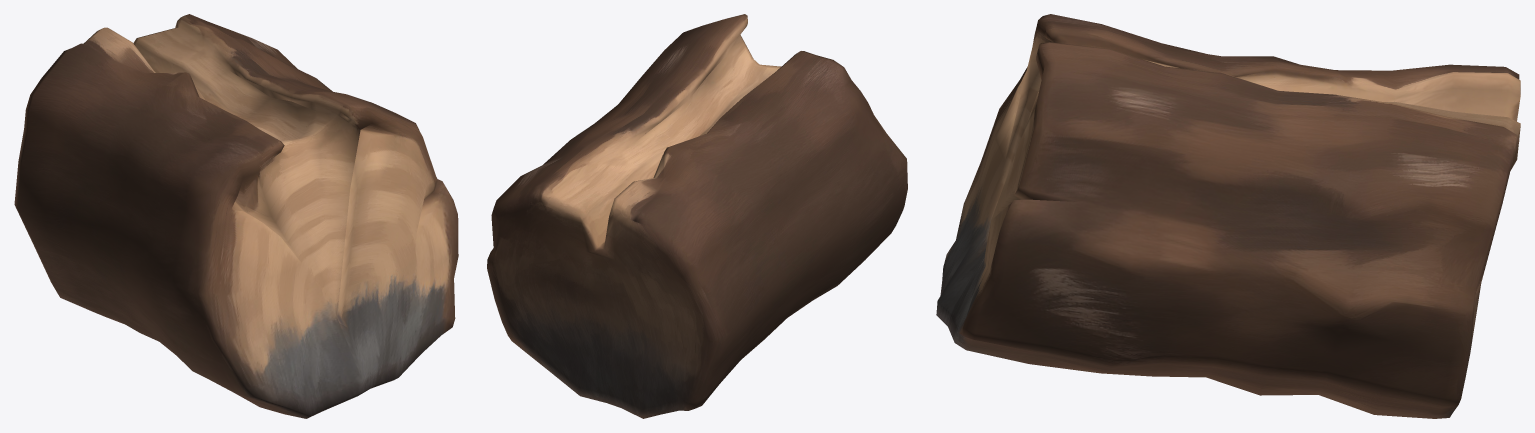
Rendered from charred_log.glb.
3 views of the same model, side by side, from view 1: azimuth 30°, elevation 25°; view 2: azimuth 150°, elevation 25°; view 3: azimuth 270°, elevation 25° (orthographic). The views are drawn at different scales.
Visible parts, largest first — view 1: tripo_node_462dae0a-afc8-4510-aa71-86a489d381f7; view 2: tripo_node_462dae0a-afc8-4510-aa71-86a489d381f7; view 3: tripo_node_462dae0a-afc8-4510-aa71-86a489d381f7.
Part boxes in pixels (x1,y1,x2,y2): tripo_node_462dae0a-afc8-4510-aa71-86a489d381f7: (14,14,458,418); tripo_node_462dae0a-afc8-4510-aa71-86a489d381f7: (487,14,907,418); tripo_node_462dae0a-afc8-4510-aa71-86a489d381f7: (936,14,1520,418).
Bounding box in the file's own units: 0.6699 × 0.709 × 0.998.
Materials: 1 (1 with a texture image).
